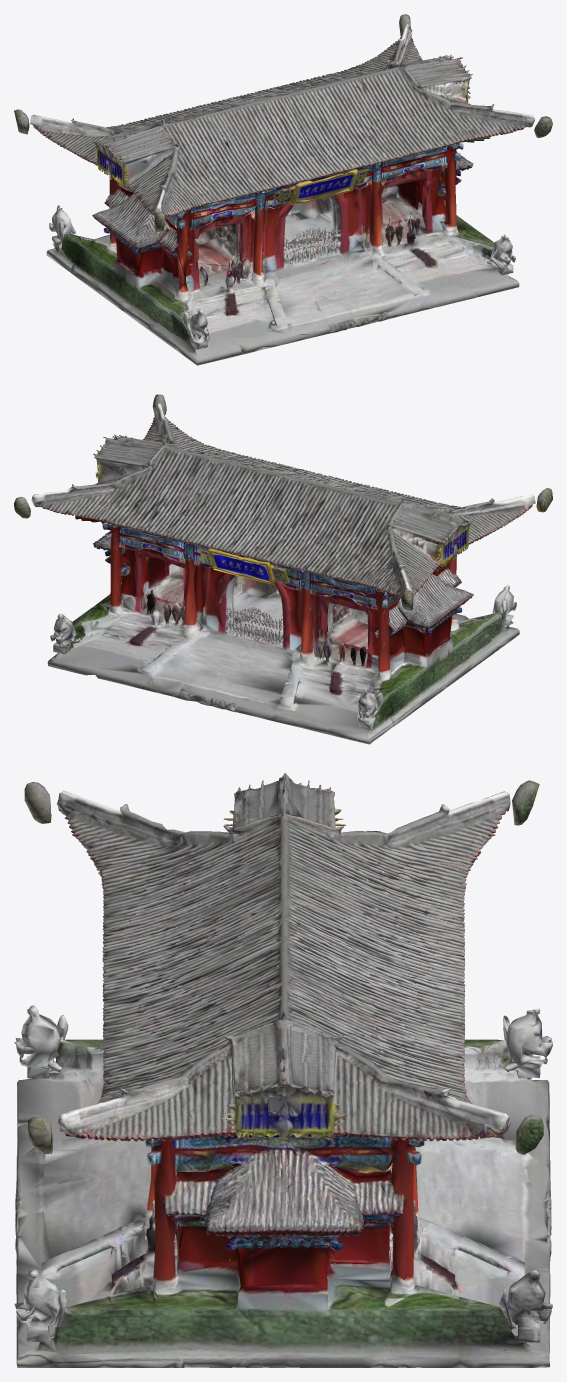
Rendered from lib_paifang.glb.
3 views of the same model, one above another, from view 1: azimuth 30°, elevation 25°; view 2: azimuth 150°, elevation 25°; view 3: azimuth 270°, elevation 25° (orthographic). The views are drawn at different scales.
Bounding box in the file's own units: 1.89 × 0.8322 × 1.26.
1 material, 1 textured.
